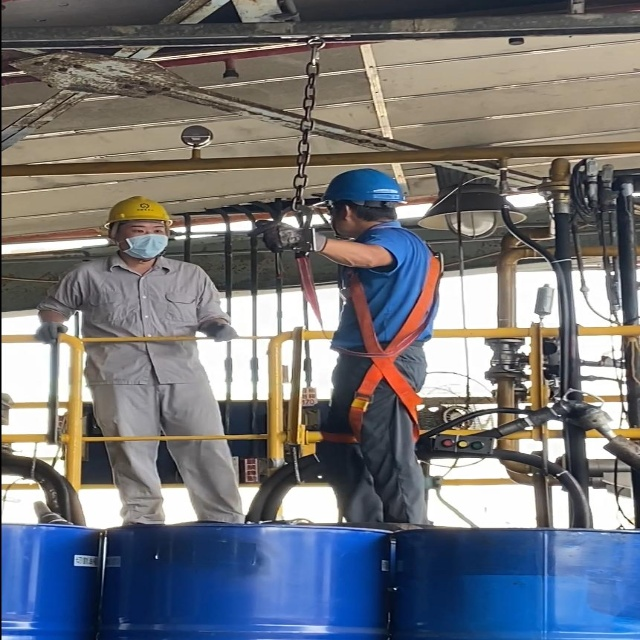Arnes_seguridad: (329, 234, 444, 463)
